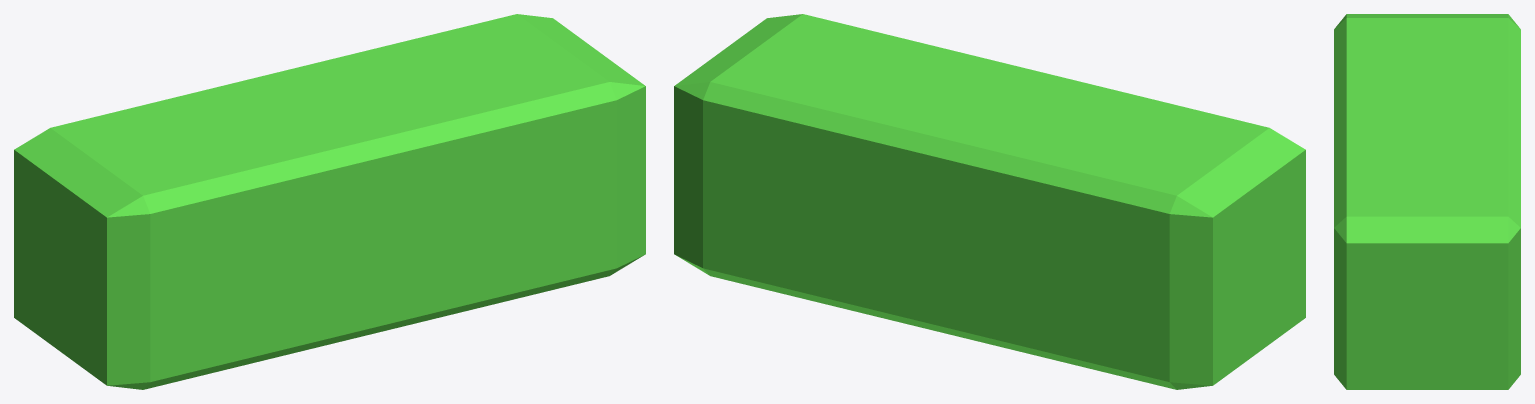
File: YogaBlockGreen.fbx
3 views of the same model, side by side, from view 1: azimuth 30°, elevation 25°; view 2: azimuth 150°, elevation 25°; view 3: azimuth 270°, elevation 25° (orthographic). The views are drawn at different scales.
Parts seen in each view (by area): view 1: Cube; view 2: Cube; view 3: Cube.
Part boxes in pixels (x1,y1,x2,y2): Cube: (14,14,645,389); Cube: (674,14,1305,389); Cube: (1334,14,1520,389).
Bounding box in the file's own units: 581 × 200 × 200.
